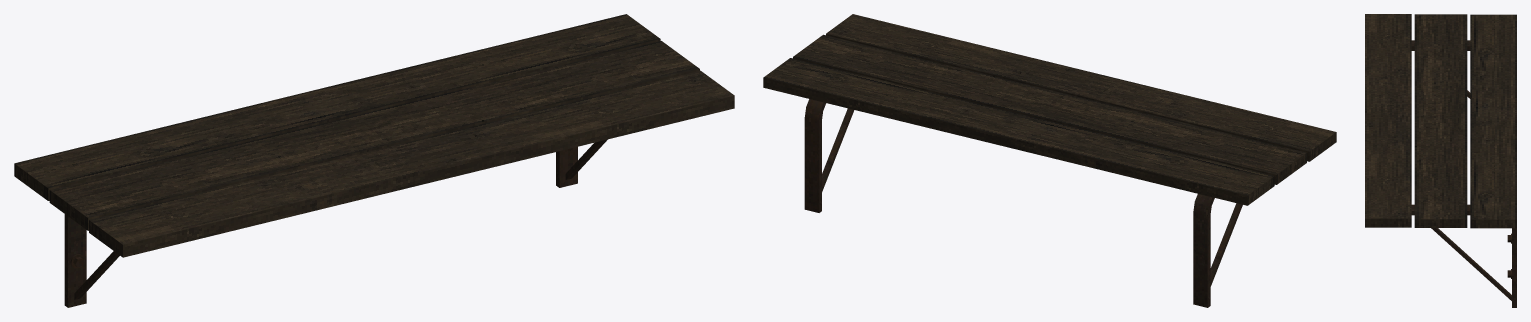
Rendered from hanging_shelf_mx_2.glb.
3 views of the same model, side by side, from view 1: azimuth 30°, elevation 25°; view 2: azimuth 150°, elevation 25°; view 3: azimuth 270°, elevation 25° (orthographic). The views are drawn at different scales.
Parts seen in each view (by area): view 1: hanging_shelf_mx_2; view 2: hanging_shelf_mx_2; view 3: hanging_shelf_mx_2.
Part boxes in pixels (x1,y1,x2,y2): hanging_shelf_mx_2: (14, 14, 734, 307); hanging_shelf_mx_2: (763, 14, 1336, 307); hanging_shelf_mx_2: (1365, 14, 1516, 307).
Size of the model in its own units: 1 by 0.24 by 0.312.
2 materials, 2 textured.
